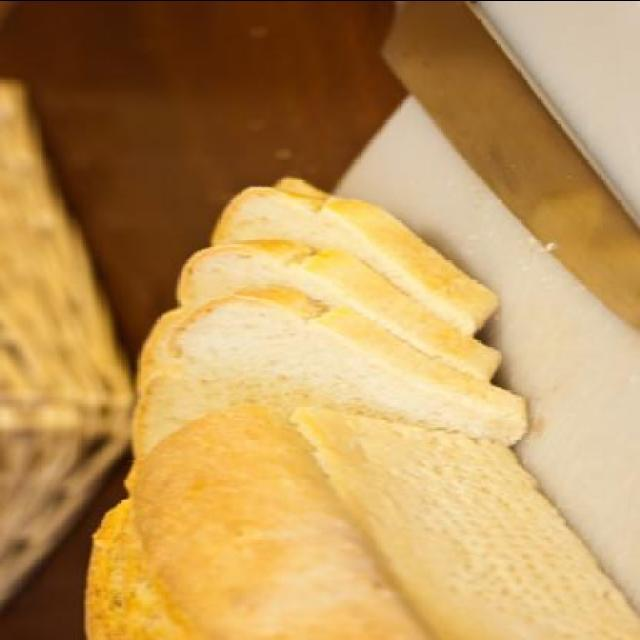Bread: (83, 177, 639, 640), (91, 410, 412, 628)
